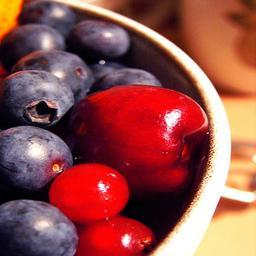apple: (68, 86, 210, 205)
